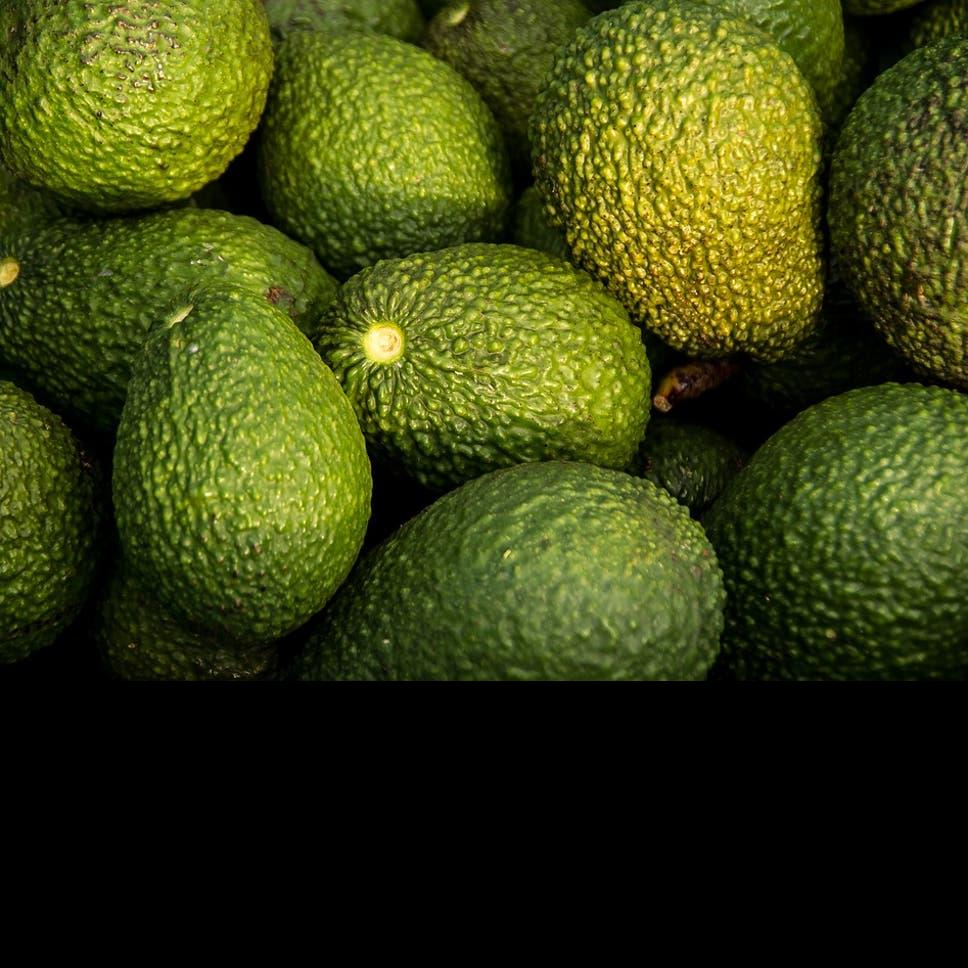unripe: (529, 1, 830, 368), (303, 460, 727, 681), (112, 283, 373, 642), (318, 242, 652, 491), (701, 383, 968, 682), (2, 208, 343, 430), (257, 29, 512, 279), (1, 1, 274, 211), (831, 34, 968, 382), (1, 382, 106, 672)
